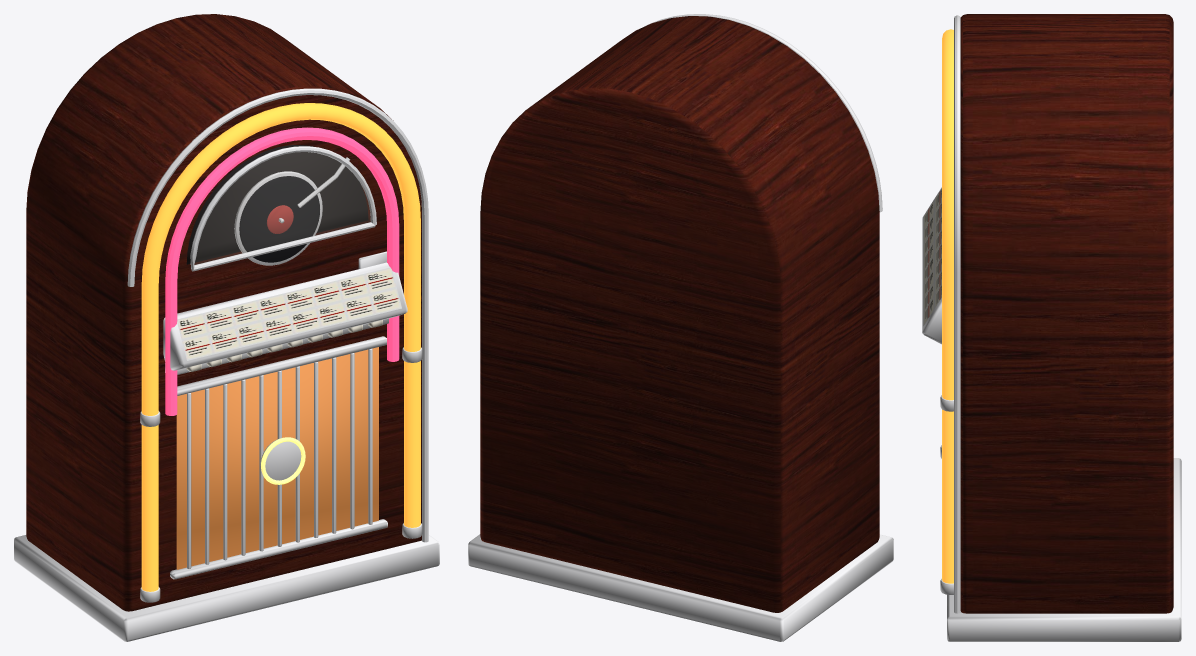
Rendered from jukebox.glb.
3 renders of one model, left to right at view 1: azimuth 30°, elevation 25°; view 2: azimuth 150°, elevation 25°; view 3: azimuth 270°, elevation 25°, orthographic. The views are drawn at different scales.
Parts seen in each view (by area): view 1: Cabinet, Chrome, Grille cloth, Outer tube, Dome glass, Cards, Jukebox shadow, Inner tube, Vinyl, Ivory buttons, Medallion ring, Record label; view 2: Cabinet, Chrome; view 3: Cabinet, Chrome, Outer tube, Cards.
Boxes of the visible parts, x1=… form: Cabinet: x1=26, y1=14, x2=421, y2=611; Chrome: x1=14, y1=88, x2=439, y2=641; Grille cloth: x1=176, y1=347, x2=378, y2=569; Outer tube: x1=141, y1=103, x2=420, y2=591; Dome glass: x1=195, y1=152, x2=370, y2=264; Cards: x1=177, y1=267, x2=401, y2=360; Jukebox shadow: x1=186, y1=144, x2=368, y2=264; Inner tube: x1=165, y1=127, x2=399, y2=415; Vinyl: x1=239, y1=176, x2=319, y2=262; Ivory buttons: x1=186, y1=320, x2=382, y2=371; Medallion ring: x1=261, y1=437, x2=305, y2=484; Record label: x1=267, y1=205, x2=293, y2=233; Cabinet: x1=480, y1=16, x2=879, y2=612; Chrome: x1=468, y1=14, x2=893, y2=641; Cabinet: x1=960, y1=14, x2=1173, y2=613; Chrome: x1=922, y1=15, x2=1181, y2=641; Outer tube: x1=942, y1=29, x2=953, y2=583; Cards: x1=923, y1=188, x2=941, y2=325.
Size of the model in its own units: 0.94 by 1.45 by 0.641.
Materials: 12 (2 with a texture image).
